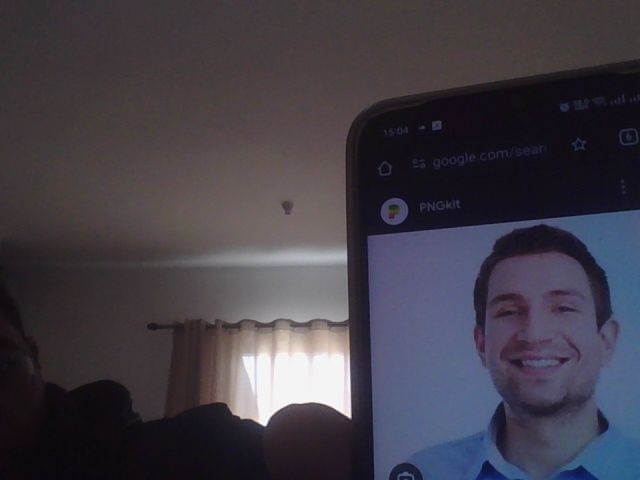fake: (477, 219, 618, 419)
